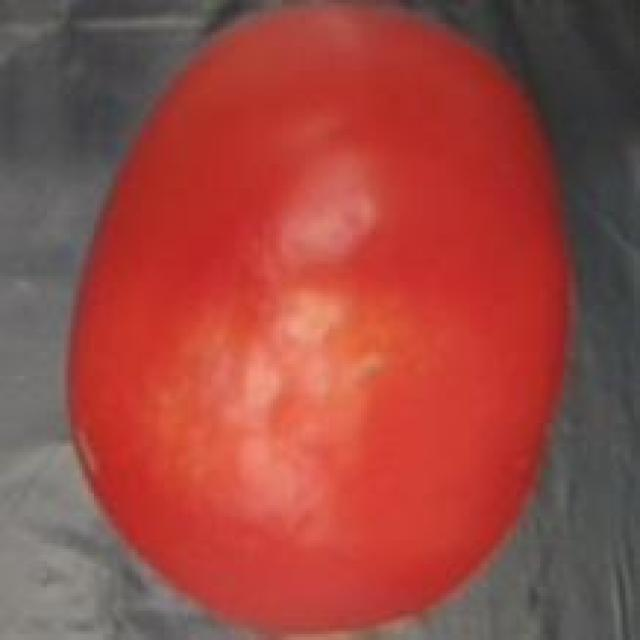ripe tomato: (64, 0, 566, 640)
